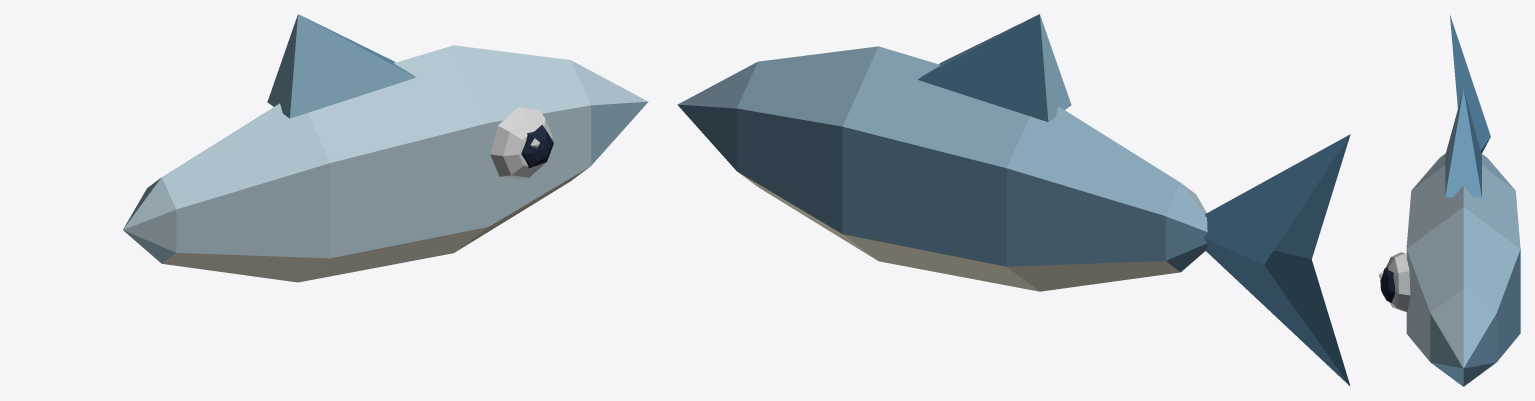
Rendered from small-fish.glb.
The picture shows the model from 3 angles, left to right: view 1: azimuth 30°, elevation 25°; view 2: azimuth 150°, elevation 25°; view 3: azimuth 270°, elevation 25°; orthographic projection. The views are drawn at different scales.
Visible parts, largest first — view 1: small-fish; view 2: small-fish; view 3: small-fish.
Boxes of the visible parts, bbox=[...] form: small-fish: bbox=[123, 14, 648, 282]; small-fish: bbox=[677, 14, 1350, 386]; small-fish: bbox=[1379, 15, 1520, 386].
Size of the model in its own units: 0.66 by 0.29 by 0.1543.
